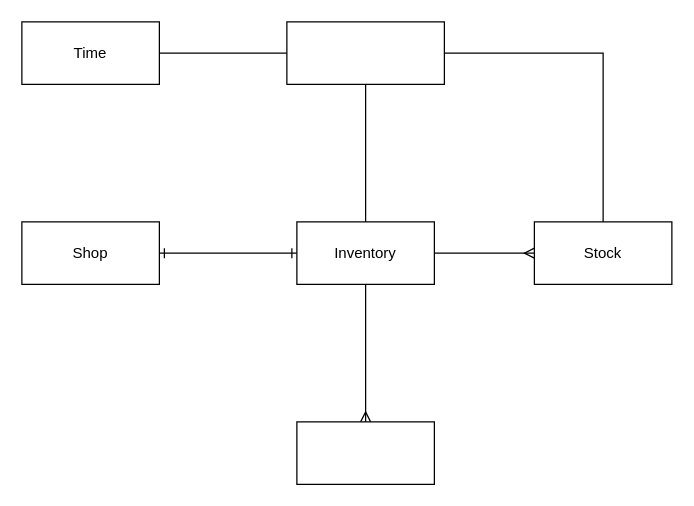
Some shapes in this 694 by 506 pixel diagram are drawn without their labels. The box of each missing label's shape, as (x1, y1, x2, y2) in pixels:
DecayingChecker: (286, 21, 444, 84)
Product: (296, 421, 434, 484)
